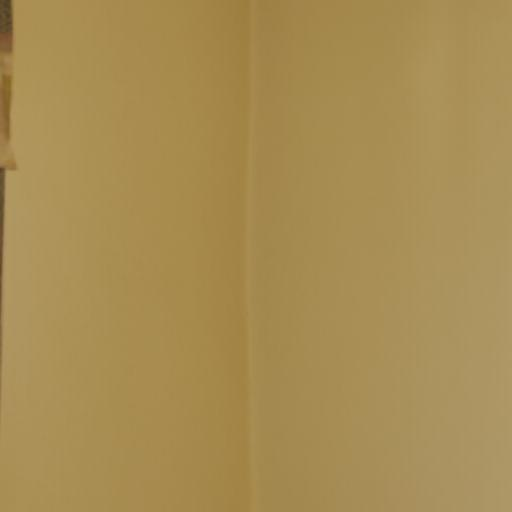nothing: (1, 0, 512, 512)
